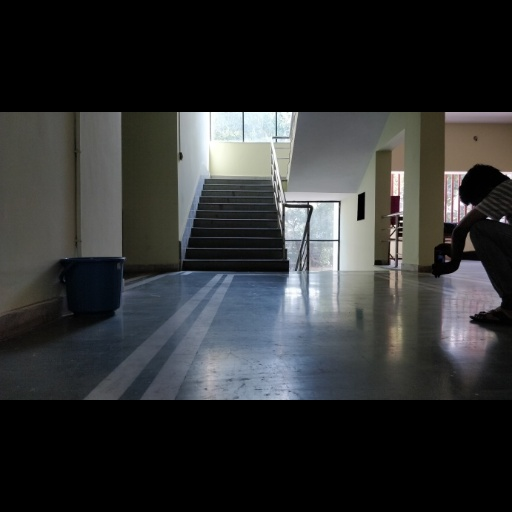Stairs: (183, 179, 289, 270)
